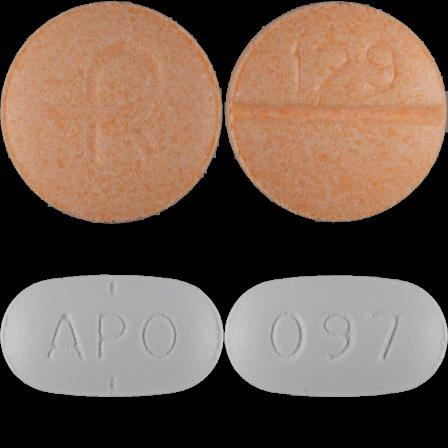0904-5658: (0, 0, 224, 224)
